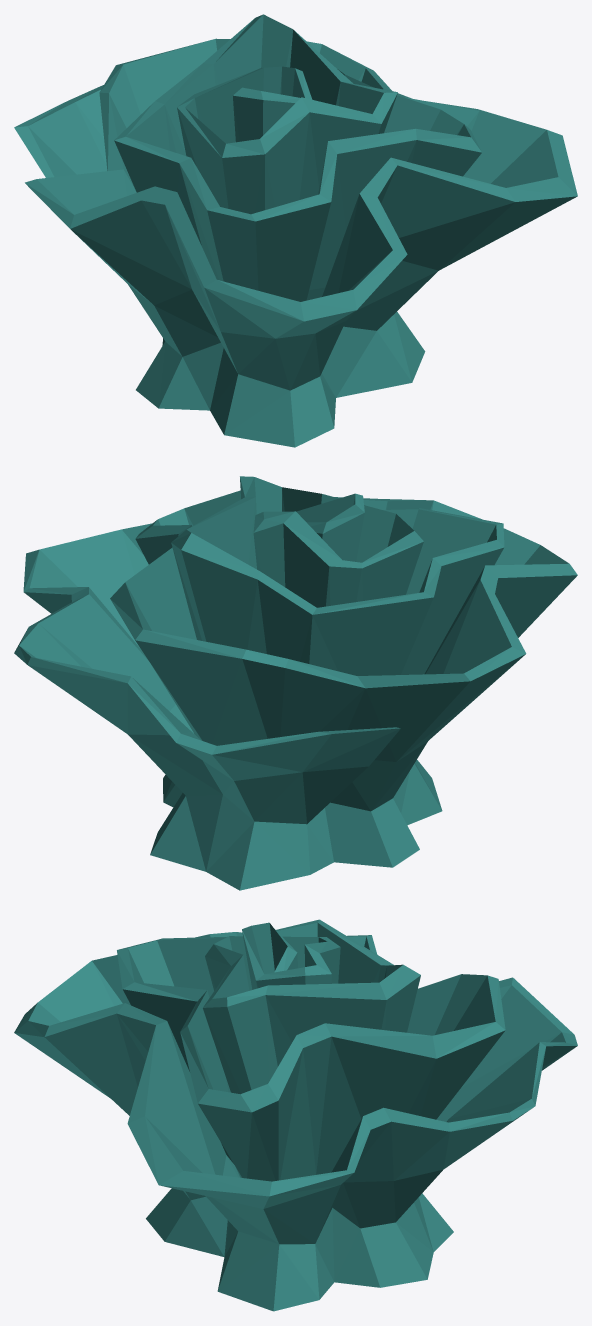
Rendered from SM_Coral_Leaf_Mature_C.fbx.
3 renders of one model, top to bottom at view 1: azimuth 30°, elevation 25°; view 2: azimuth 150°, elevation 25°; view 3: azimuth 270°, elevation 25°, orthographic. The views are drawn at different scales.
Parts seen in each view (by area): view 1: coral-leaf-mature-c; view 2: coral-leaf-mature-c; view 3: coral-leaf-mature-c.
Part boxes in pixels (box(x1,y1,x2,y2)): coral-leaf-mature-c: box(14, 14, 577, 447); coral-leaf-mature-c: box(14, 476, 577, 890); coral-leaf-mature-c: box(14, 919, 577, 1311).
Size of the model in its own units: 1.21 by 0.737 by 1.25.
